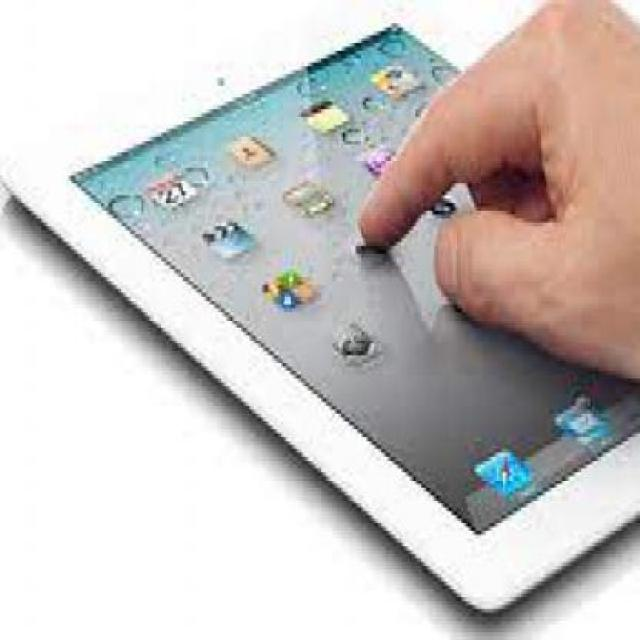tablet: (29, 8, 633, 626)
